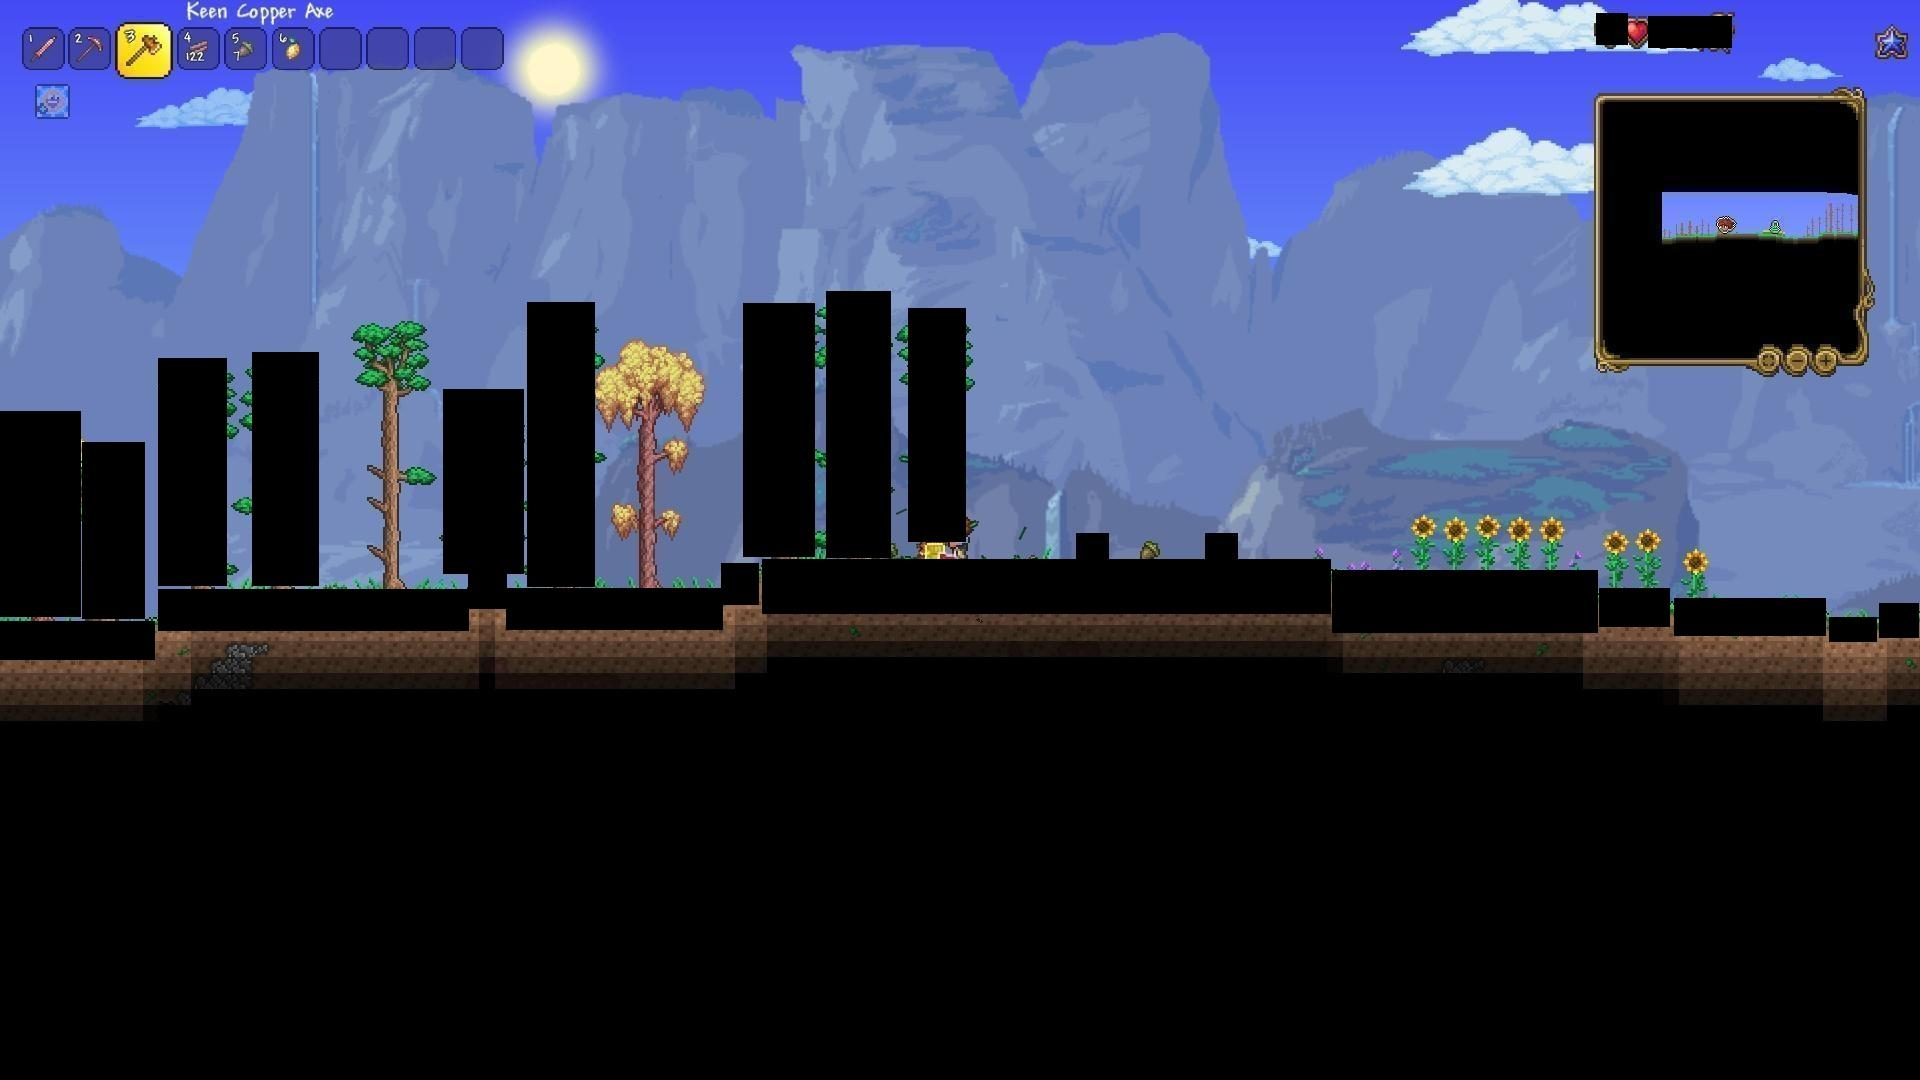heart: (1625, 17, 1651, 47)
tree: (596, 334, 705, 587), (353, 313, 429, 588)
wood: (183, 32, 211, 57)
